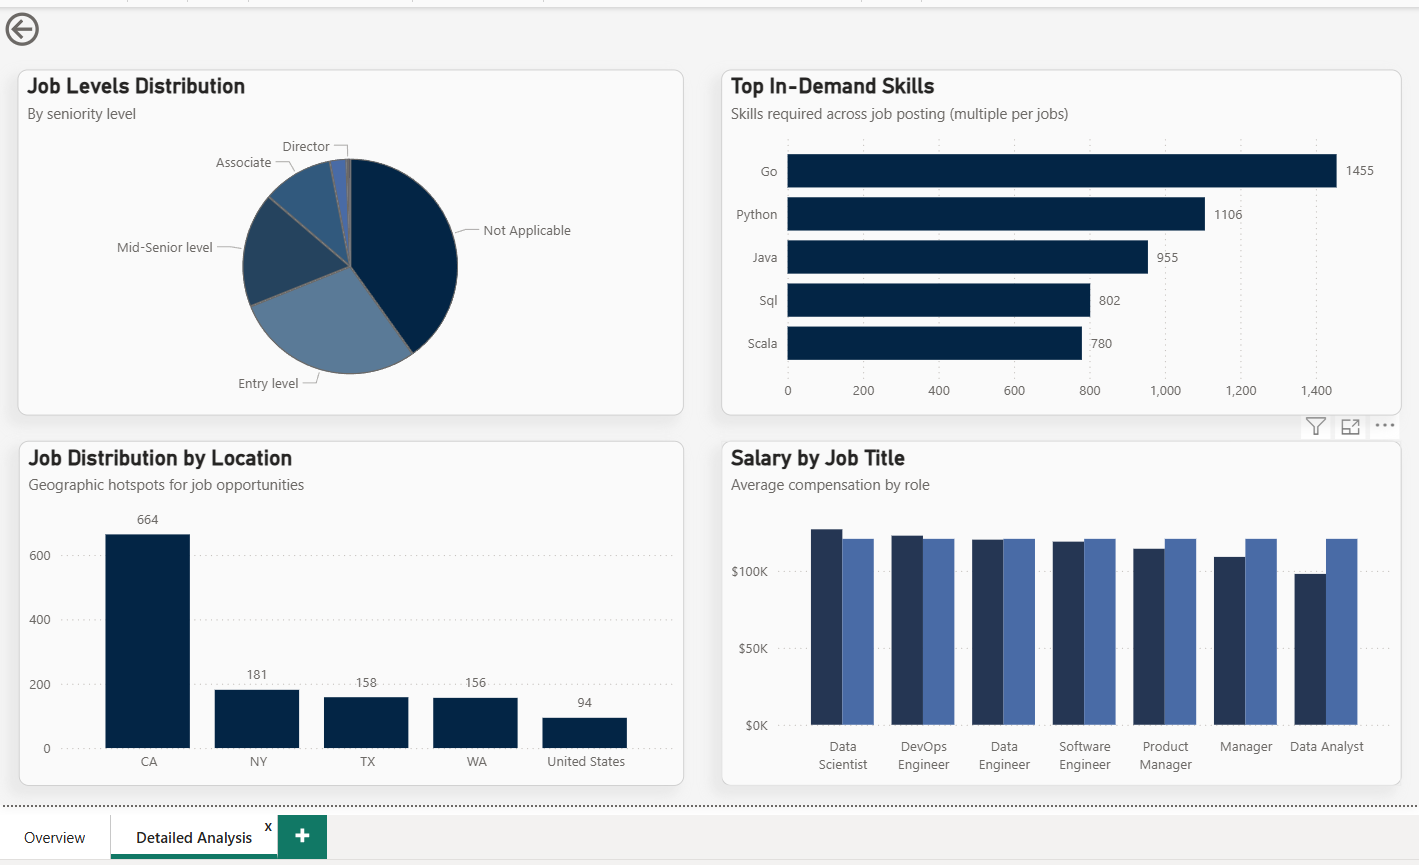

Layout of this report page (visuals, bound fields, positions):
{"tool":"powerbi","page":{"name":" Detailed Analysis","canvas":[1280,720],"ordinal":1},"visuals":[{"type":"clusteredColumnChart","title":"Job Distribution by Location","fields":{"Category":["onGjiBOHFIGJVWcg (2).location_clean"],"Y":["Count(onGjiBOHFIGJVWcg (2).post_id)"]},"box":[16.5,391.1,599.7,311.5],"z":0},{"type":"clusteredColumnChart","title":"Salary by Job Title","fields":{"Y":["Avg(onGjiBOHFIGJVWcg (2).avg_salary)","onGjiBOHFIGJVWcg (2).Median Salary"],"Category":["onGjiBOHFIGJVWcg (2).job_title_clean"]},"box":[650.4,391.1,613.4,311.5],"z":1000},{"type":"pieChart","title":"Job Levels Distribution","fields":{"Category":["onGjiBOHFIGJVWcg (2).Seniority level"],"Y":["CountNonNull(onGjiBOHFIGJVWcg (2).post_id)"]},"box":[15.9,56.3,600.4,311.8],"z":2000},{"type":"actionButton","box":[0,0,100,40],"z":3000},{"type":"clusteredBarChart","title":"Top In-Demand Skills","fields":{"Category":["onGjiBOHFIGJVWcg (2).skills"],"Y":["Count(onGjiBOHFIGJVWcg (2).post_id)"]},"box":[650.5,56.3,613.9,311.8],"z":4000}]}

Visuals, with their boxes on the page's 1280x720 design canvas (x1, y1, x2, y2). These are canvas units, not pixel positions in the 1419x865 screenshot, which may show the page scaled, cropped or inside an application window:
"Job Distribution by Location" clusteredColumnChart: Rect(16, 391, 616, 703)
"Salary by Job Title" clusteredColumnChart: Rect(650, 391, 1264, 703)
"Job Levels Distribution" pieChart: Rect(16, 56, 616, 368)
actionButton: Rect(0, 0, 100, 40)
"Top In-Demand Skills" clusteredBarChart: Rect(650, 56, 1264, 368)
